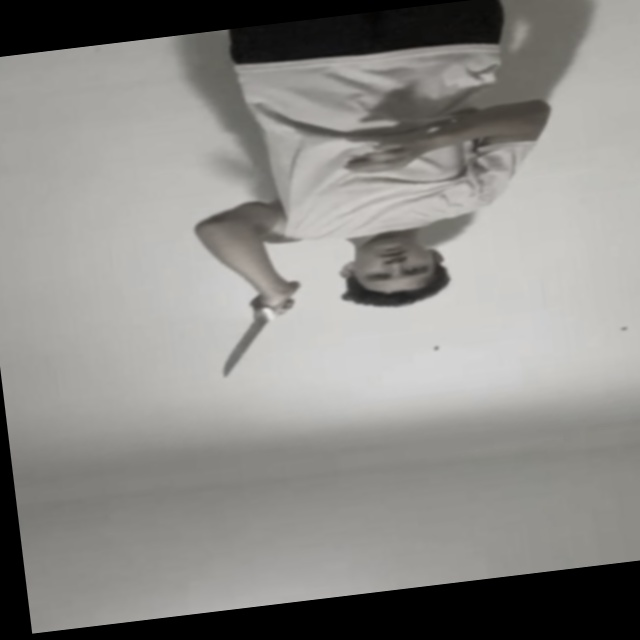Sharp-Object: (216, 310, 273, 378)
